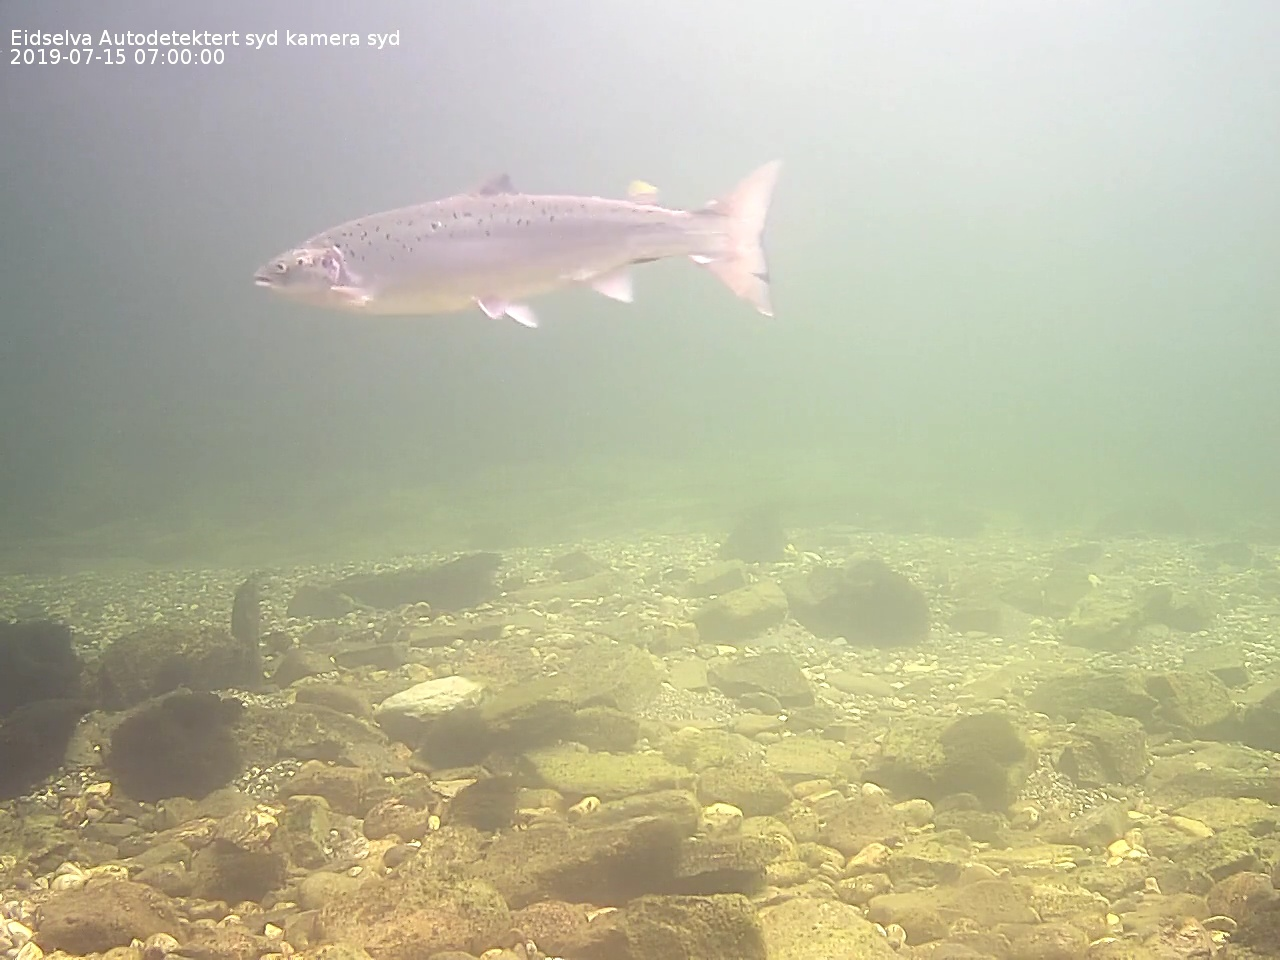salmon: (248, 146, 799, 332)
